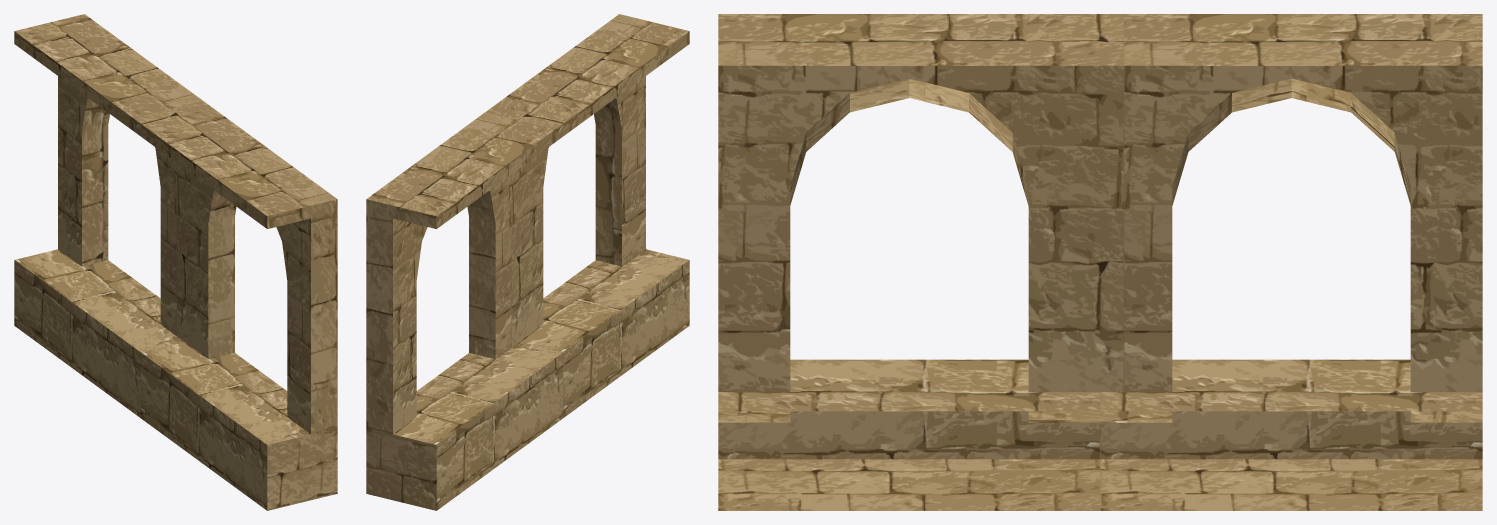
Rendered from corridor_2.fbx.
3 views of the same model, side by side, from view 1: azimuth 30°, elevation 25°; view 2: azimuth 150°, elevation 25°; view 3: azimuth 270°, elevation 25° (orthographic). The views are drawn at different scales.
Parts seen in each view (by area): view 1: polySurface1956; view 2: polySurface1956; view 3: polySurface1956.
Boxes of the visible parts, x1,y1,x2,y2 form: polySurface1956: [14, 14, 337, 510]; polySurface1956: [366, 14, 689, 510]; polySurface1956: [718, 14, 1482, 510].
Bounding box in the file's own units: 37.92 × 152 × 237.
